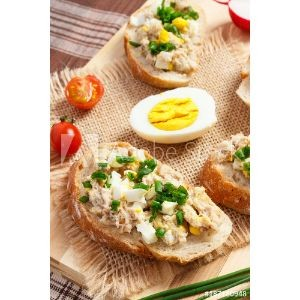tuna_brain food: (78, 149, 207, 256), (126, 3, 202, 85)
